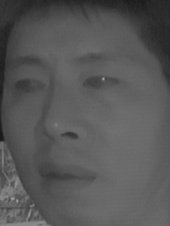eye: (80, 72, 124, 95), (11, 74, 48, 97)
mouth: (34, 157, 95, 199)
